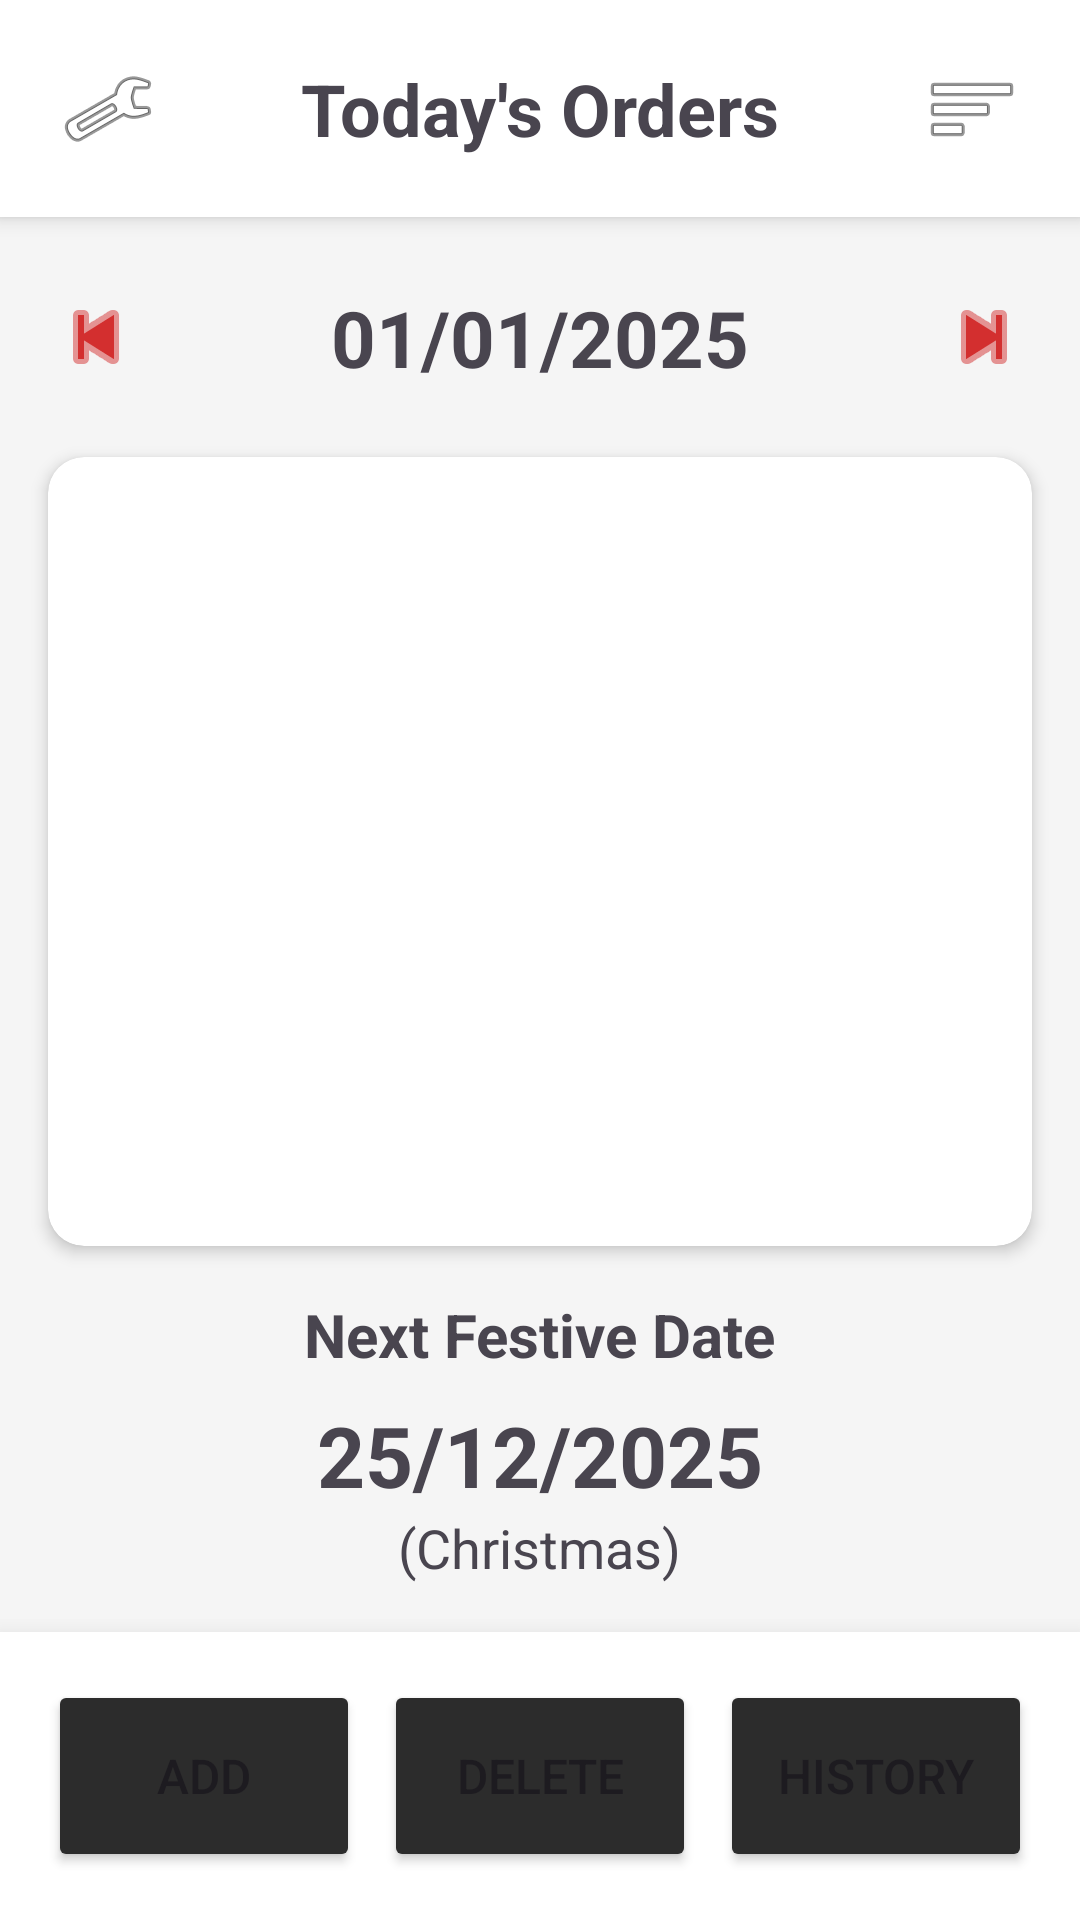

Named icons in this screenshot (1080*1920) and their bounding boxes, (x1, y1, x2, y2):
next: (961, 310, 1007, 364)
preferences: (65, 76, 151, 142)
previous: (73, 310, 119, 364)
sort by size: (931, 83, 1013, 136)
